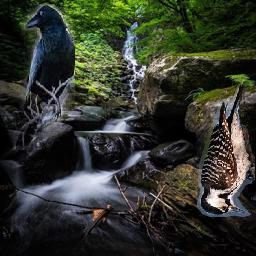Crow: (13, 4, 75, 150)
Woodpecker: (197, 81, 255, 218)
